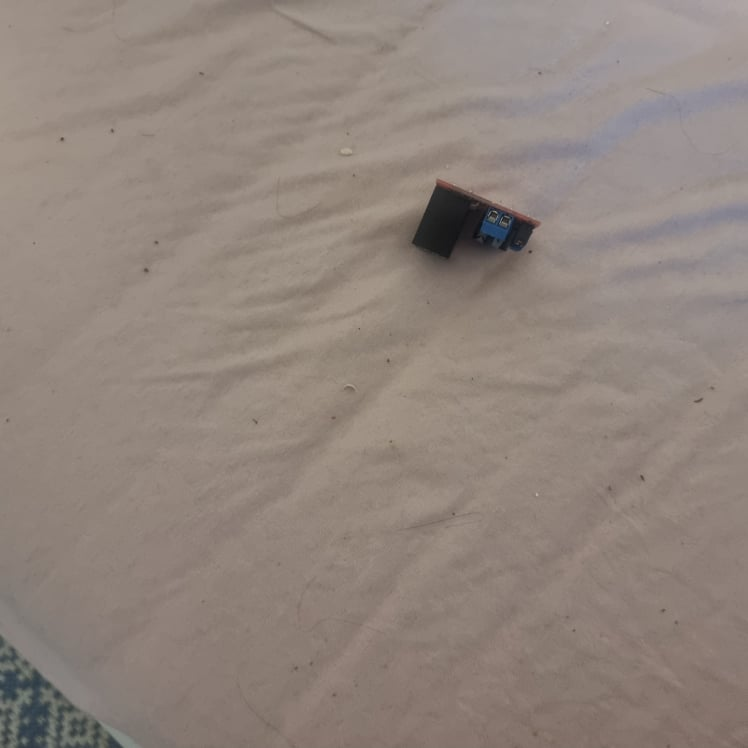MOTOR: (408, 177, 546, 266)
